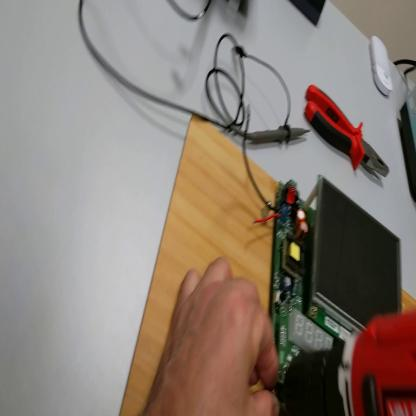electric screwdriver: (282, 298, 416, 415)
hand: (145, 254, 282, 415)
low voltage board: (253, 173, 404, 386)
oscilloscope: (229, 2, 250, 16)
oscilloscope probe tip: (250, 126, 311, 145)
pliers: (307, 80, 390, 177)
welder station: (400, 85, 416, 204)
working area: (121, 111, 283, 416)
